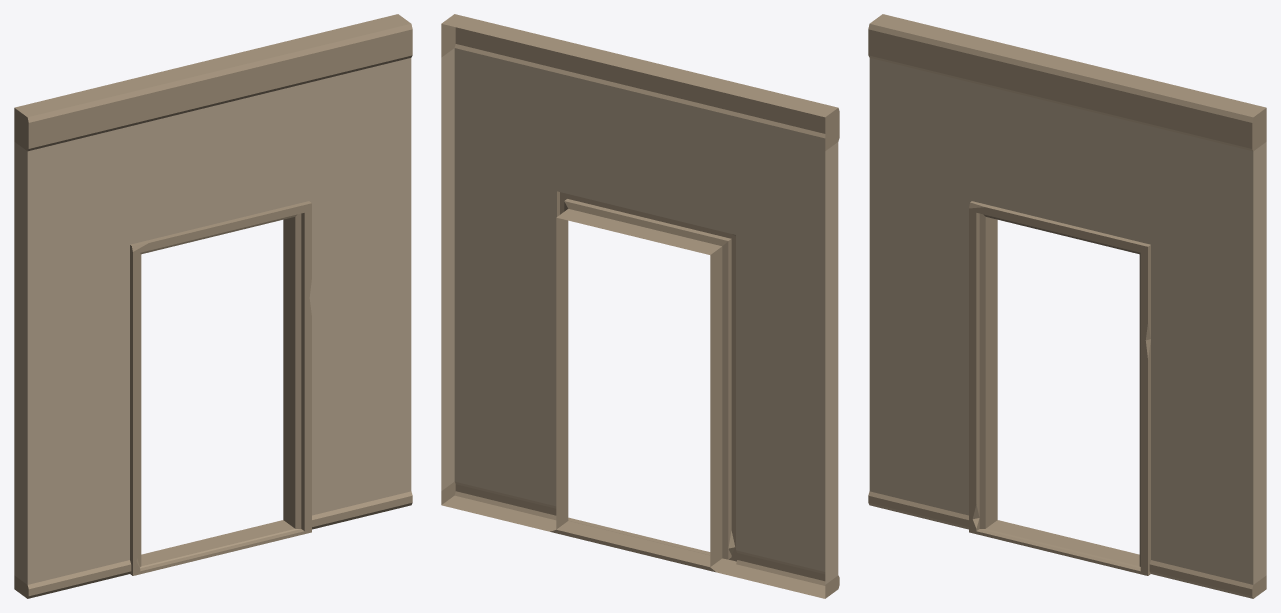
Rendered from SM_Bld_Wall_Trim_Door_01.glb.
The picture shows the model from 3 angles, left to right: view 1: azimuth 30°, elevation 25°; view 2: azimuth 150°, elevation 25°; view 3: azimuth 330°, elevation 25°; orthographic projection.
Visible parts, largest first — view 1: SM_Bld_Wall_Trim_Door_01; view 2: SM_Bld_Wall_Trim_Door_01; view 3: SM_Bld_Wall_Trim_Door_01.
Part boxes in pixels (x1,y1,x2,y2): SM_Bld_Wall_Trim_Door_01: (14, 14, 412, 598); SM_Bld_Wall_Trim_Door_01: (441, 14, 839, 598); SM_Bld_Wall_Trim_Door_01: (868, 14, 1266, 598).
Size of the model in its own units: 2.5 by 3 by 0.1827.
1 material, 1 textured.
